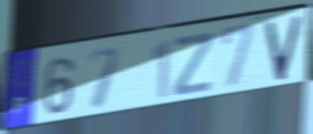1: (152, 37, 172, 101)
6: (43, 55, 77, 117)
7: (219, 20, 258, 92), (88, 44, 121, 113)
V: (263, 13, 306, 84)
Z: (170, 30, 216, 99)
